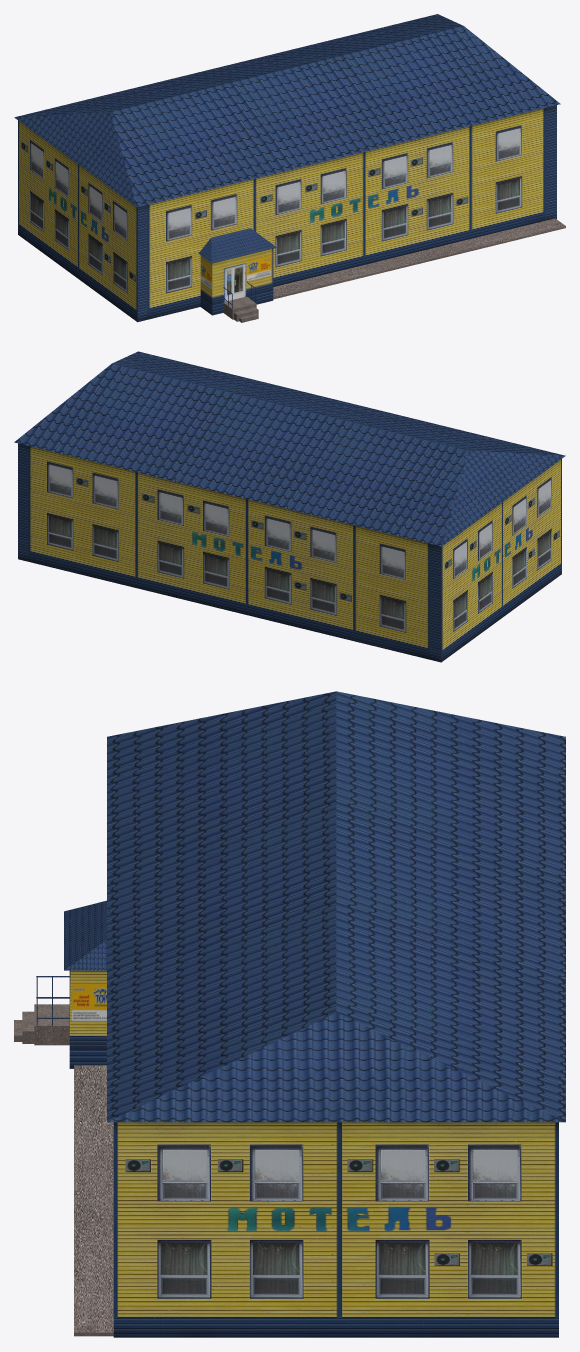
File: r402_motel_uyut.FBX
3 renders of one model, top to bottom at view 1: azimuth 30°, elevation 25°; view 2: azimuth 150°, elevation 25°; view 3: azimuth 270°, elevation 25°, orthographic. The views are drawn at different scales.
Parts seen in each view (by area): view 1: r402_motel_uyut; view 2: r402_motel_uyut; view 3: r402_motel_uyut.
Part boxes in pixels (x1=…): r402_motel_uyut: x1=14, y1=14, x2=565, y2=322; r402_motel_uyut: x1=14, y1=351, x2=565, y2=662; r402_motel_uyut: x1=14, y1=691, x2=565, y2=1337.
Size of the model in its own units: 2663 by 1611 by 950.
